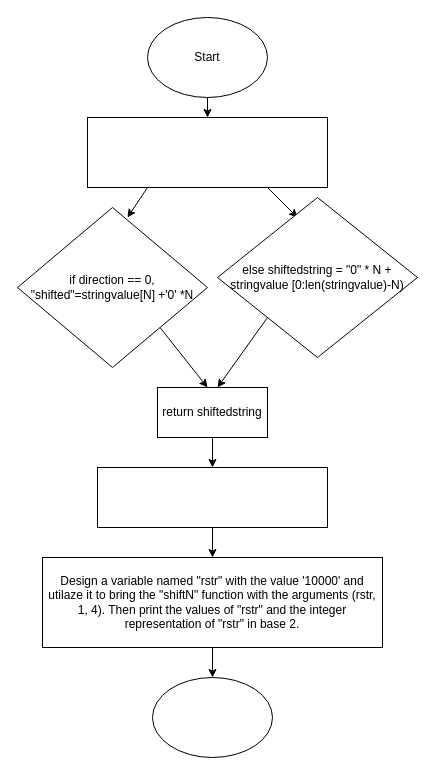
Some shapes in this 435 by 775 pixel diagram are drawn without their labels. Here are the shapes that lost their labels. From the top down, the box of each, then its label:
(86, 116, 328, 188): The "shiftN" function, with input parameters (stringvalue, direction, and N)
(96, 466, 328, 528): Define a variable and name it "str", setting its value to "001100."
(152, 676, 272, 758): End
